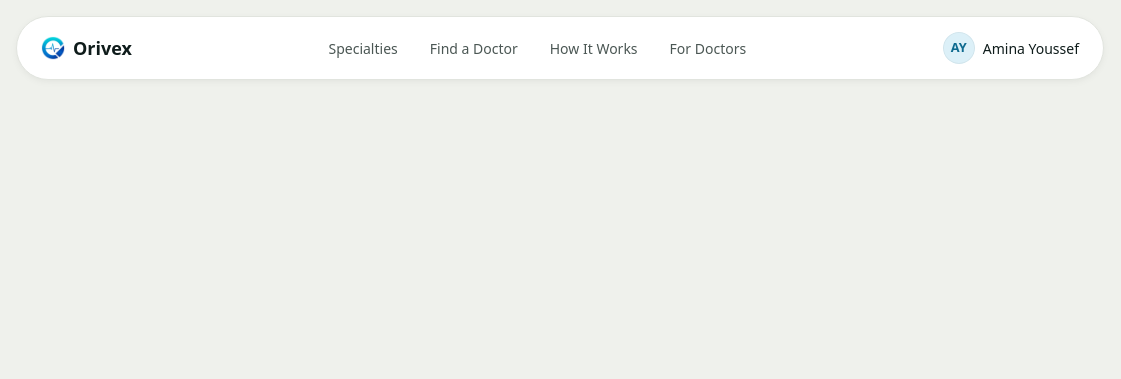
LandingNavbar › opens a dropdown with Go to Dashboard, theme options, and Sign out when the avatar is clicked
Click the text "Amina Youssef".
click(1031, 48)  # box [983, 38, 1079, 58]
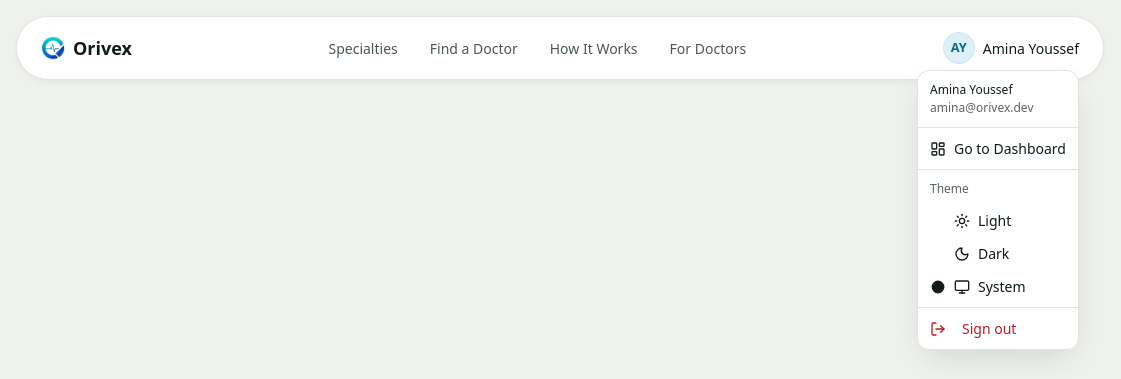
Now the menu item "Light" is shown, box [954, 211, 1011, 230]
Now the menu item "Dark" is shown, box [954, 244, 1009, 263]
Now the menu item "System" is shown, box [931, 277, 1026, 296]
